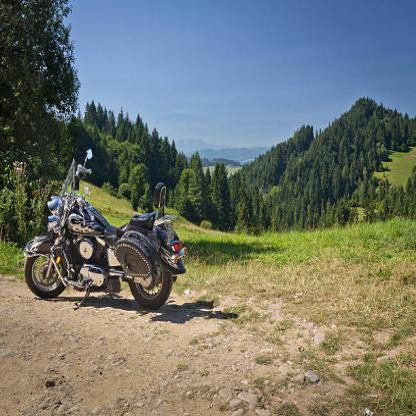Motorcycle: (15, 148, 188, 302)
